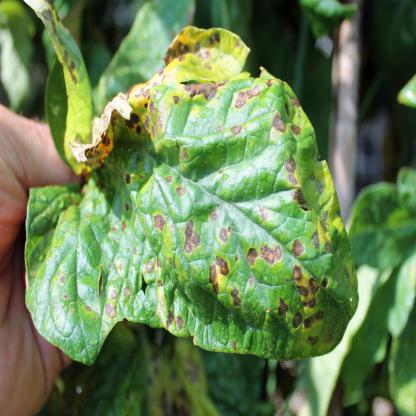tomato septoria leaf spot: (17, 24, 367, 383)
